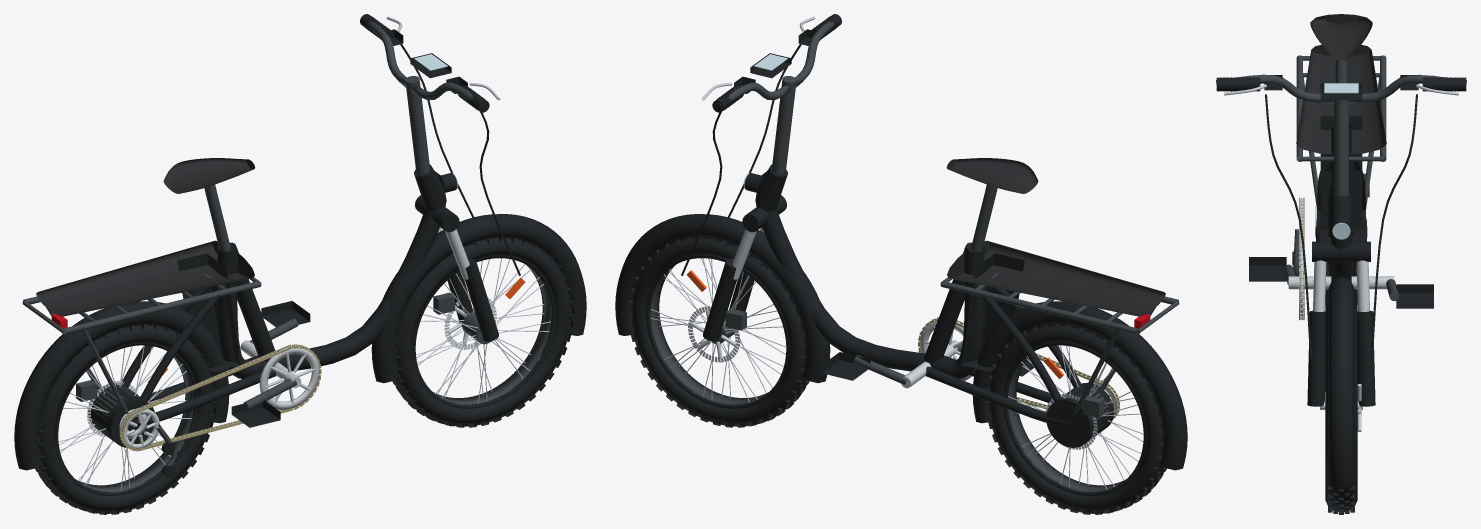
The model's file is rad-power-radrunner-plus.glb.
3 renders of one model, left to right at view 1: azimuth 30°, elevation 25°; view 2: azimuth 150°, elevation 25°; view 3: azimuth 270°, elevation 25°, orthographic. The views are drawn at different scales.
Parts seen in each view (by area): view 1: Bodywork | black, Chassis | black, FrontWheel | rubber, RearWheel | rubber, Bodywork | seat, Drive | steel, FrontWheel | steel, Bodywork | graphite, Cockpit | graphite, Fork | black, FrontWheel | graphite, RearWheel | graphite (+11 smaller); view 2: Bodywork | black, Chassis | black, FrontWheel | rubber, RearWheel | rubber, Bodywork | seat, FrontWheel | steel, Bodywork | graphite, Cockpit | graphite, Fork | black, MotorMount | black, FrontWheel | graphite, RearWheel | graphite (+10 smaller); view 3: Bodywork | seat, Bodywork | black, Fork | black, Cockpit | graphite, Cockpit | rubber, FrontWheel | rubber, Chassis | black, Bodywork | graphite, BatteryMount | black, Drive | black, Fork | steel, Drive | steel (+6 smaller).
Part boxes in pixels (bbox=[...]): Bodywork | black: bbox=[14, 173, 586, 470]; Chassis | black: bbox=[122, 164, 446, 425]; FrontWheel | rubber: bbox=[392, 237, 573, 427]; RearWheel | rubber: bbox=[35, 324, 216, 514]; Bodywork | seat: bbox=[36, 158, 255, 316]; Drive | steel: bbox=[119, 340, 319, 448]; FrontWheel | steel: bbox=[416, 258, 550, 403]; Bodywork | graphite: bbox=[22, 272, 261, 413]; Cockpit | graphite: bbox=[367, 22, 483, 174]; Fork | black: bbox=[415, 195, 498, 341]; FrontWheel | graphite: bbox=[433, 265, 551, 404]; RearWheel | graphite: bbox=[76, 356, 193, 492]; Bodywork | black: bbox=[615, 173, 1187, 470]; Chassis | black: bbox=[755, 164, 1081, 426]; FrontWheel | rubber: bbox=[628, 237, 809, 427]; RearWheel | rubber: bbox=[985, 324, 1166, 514]; Bodywork | seat: bbox=[946, 158, 1165, 316]; FrontWheel | steel: bbox=[650, 258, 785, 402]; Bodywork | graphite: bbox=[940, 272, 1179, 416]; Cockpit | graphite: bbox=[718, 22, 834, 174]; Fork | black: bbox=[703, 195, 786, 341]; MotorMount | black: bbox=[1046, 382, 1114, 447]; FrontWheel | graphite: bbox=[649, 265, 768, 405]; RearWheel | graphite: bbox=[1007, 356, 1124, 492]; Bodywork | seat: bbox=[1296, 14, 1386, 154]; Bodywork | black: bbox=[1328, 185, 1354, 487]; Fork | black: bbox=[1307, 241, 1375, 406]; Cockpit | graphite: bbox=[1216, 74, 1466, 196]; Cockpit | rubber: bbox=[1216, 77, 1466, 358]; FrontWheel | rubber: bbox=[1325, 298, 1357, 514]; Chassis | black: bbox=[1315, 124, 1367, 281]; Bodywork | graphite: bbox=[1296, 55, 1386, 208]; BatteryMount | black: bbox=[1320, 116, 1362, 241]; Drive | black: bbox=[1249, 251, 1433, 308]; Fork | steel: bbox=[1313, 260, 1369, 311]; Drive | steel: bbox=[1288, 198, 1394, 319].
Size of the model in its own units: 1.83 by 1.16 by 0.6634.
